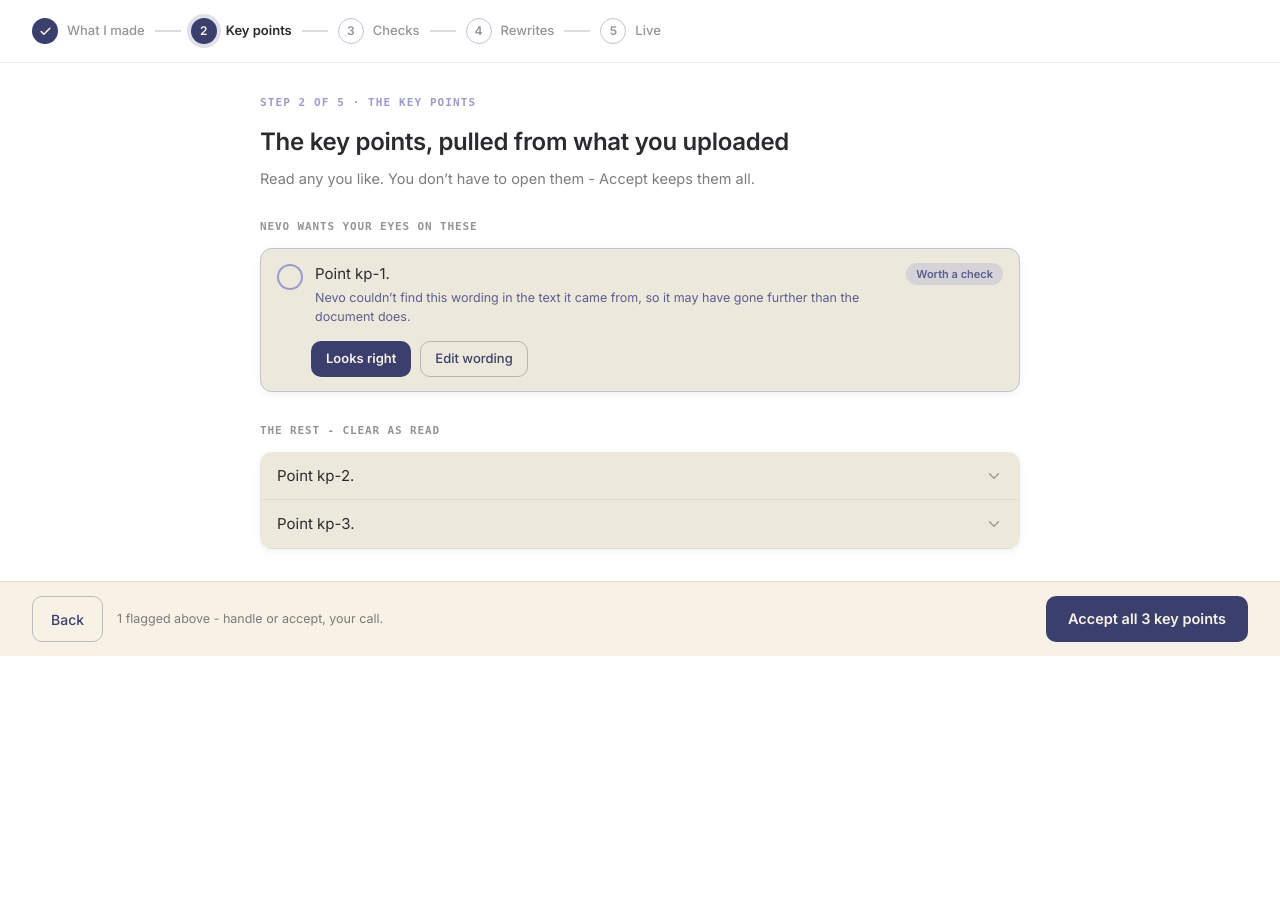
it: the key points › re-reads and says so when the lesson changed underneath
expect the navigation bar named "Lesson review steps" is shown: met, box left=0, top=0, right=1279, bottom=63
Click the button "Accept all 3 key points" at (1147, 619), box left=1046, top=596, right=1248, bottom=642
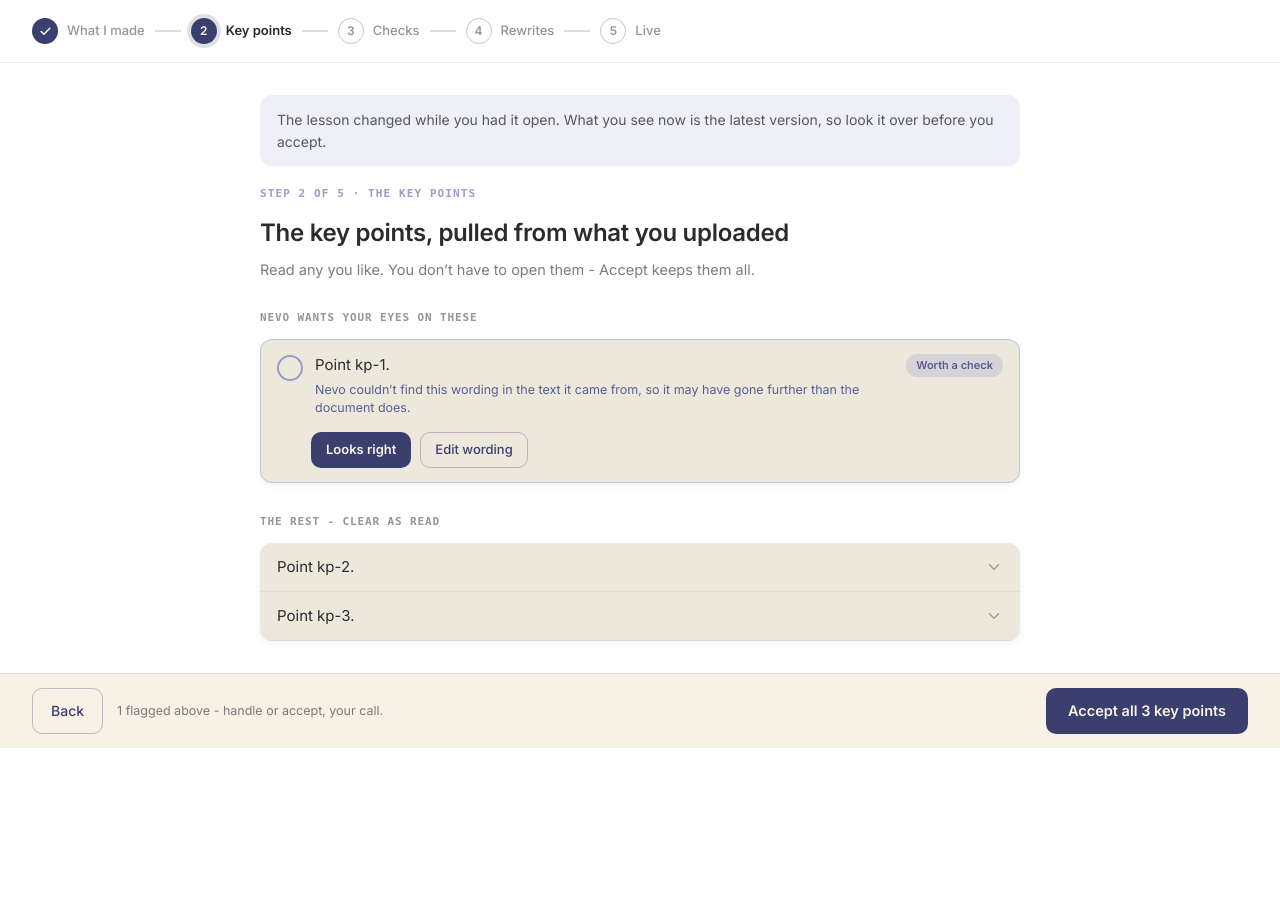
expect the text "Step 2 of 5 · the key points" is shown: met, box left=260, top=187, right=476, bottom=200
expect the text "The lesson changed while you had it open" is shown: met, box left=277, top=111, right=994, bottom=150
